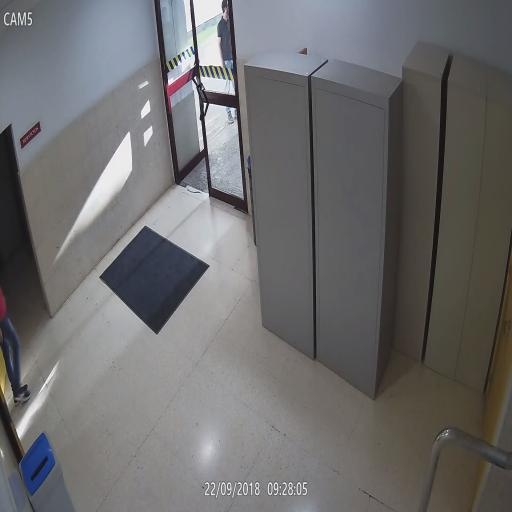Handgun: (0, 322, 8, 357)
